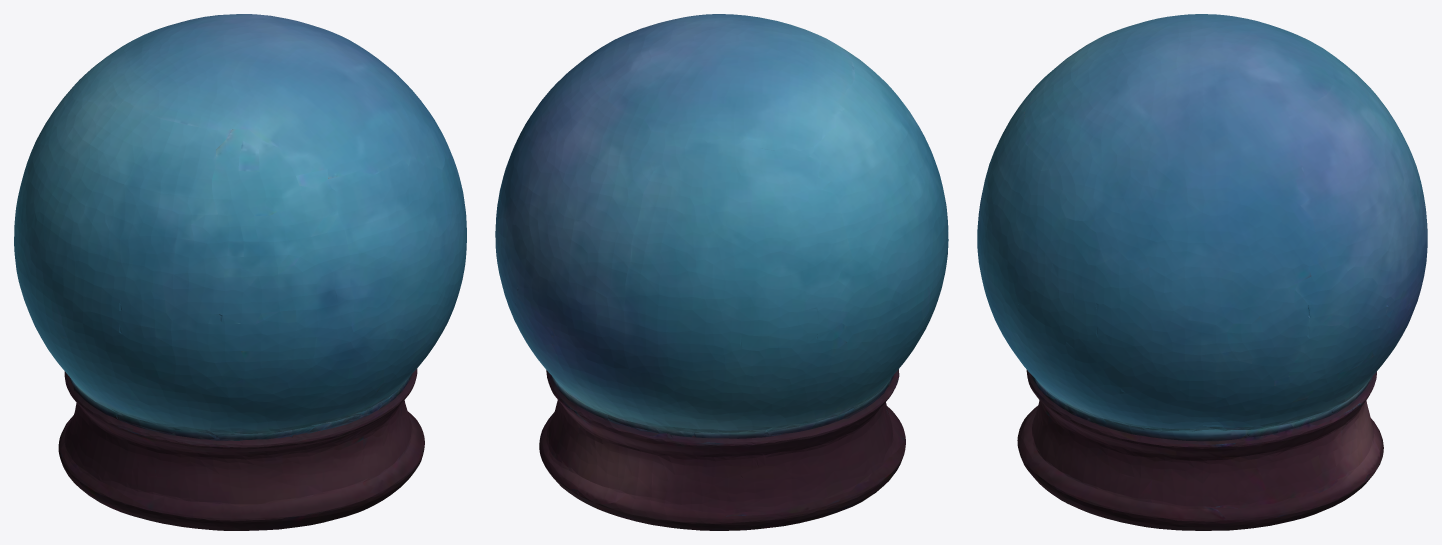
The model's file is crystal_ball1.glb.
3 renders of one model, left to right at view 1: azimuth 30°, elevation 25°; view 2: azimuth 150°, elevation 25°; view 3: azimuth 270°, elevation 25°, orthographic.
Parts seen in each view (by area): view 1: world; view 2: world; view 3: world.
Part boxes in pixels (x1=…): world: x1=14, y1=14, x2=466, y2=530; world: x1=495, y1=14, x2=948, y2=530; world: x1=977, y1=14, x2=1427, y2=530.
Bounding box in the file's own units: 0.9293 × 0.952 × 0.9227.
Materials: 1 (1 with a texture image).
